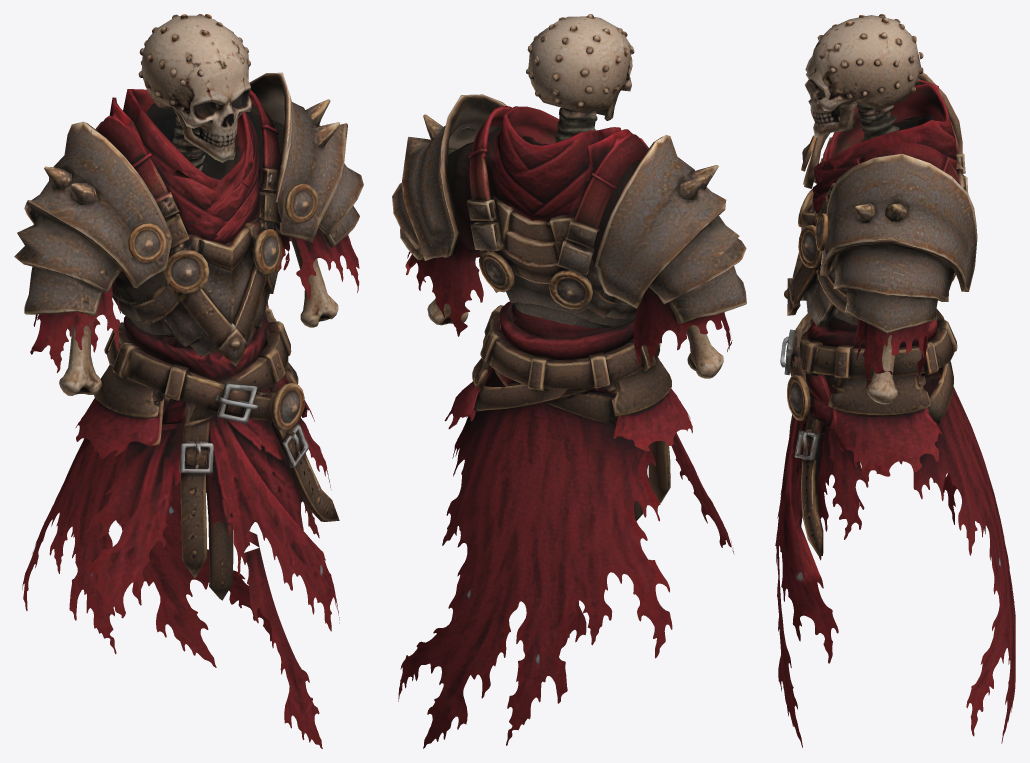
File: skeletonlord_torso.glb
The picture shows the model from 3 angles, left to right: view 1: azimuth 30°, elevation 25°; view 2: azimuth 150°, elevation 25°; view 3: azimuth 270°, elevation 25°; orthographic projection. The views are drawn at different scales.
Parts seen in each view (by area): view 1: tripo_node_fffd596f-3dbf-4568-8e1d-d2244e6e1cc4; view 2: tripo_node_fffd596f-3dbf-4568-8e1d-d2244e6e1cc4; view 3: tripo_node_fffd596f-3dbf-4568-8e1d-d2244e6e1cc4.
Boxes of the visible parts, x1,y1,x2,y2 form: tripo_node_fffd596f-3dbf-4568-8e1d-d2244e6e1cc4: [14, 14, 363, 748]; tripo_node_fffd596f-3dbf-4568-8e1d-d2244e6e1cc4: [392, 14, 746, 748]; tripo_node_fffd596f-3dbf-4568-8e1d-d2244e6e1cc4: [775, 14, 1015, 747].
Size of the model in its own units: 0.5005 by 0.9995 by 0.3169.
1 material, 1 textured.
